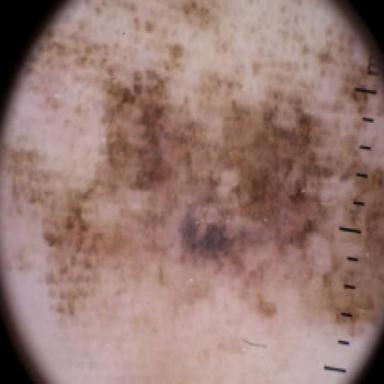Melanoma: (2, 45, 352, 329)
